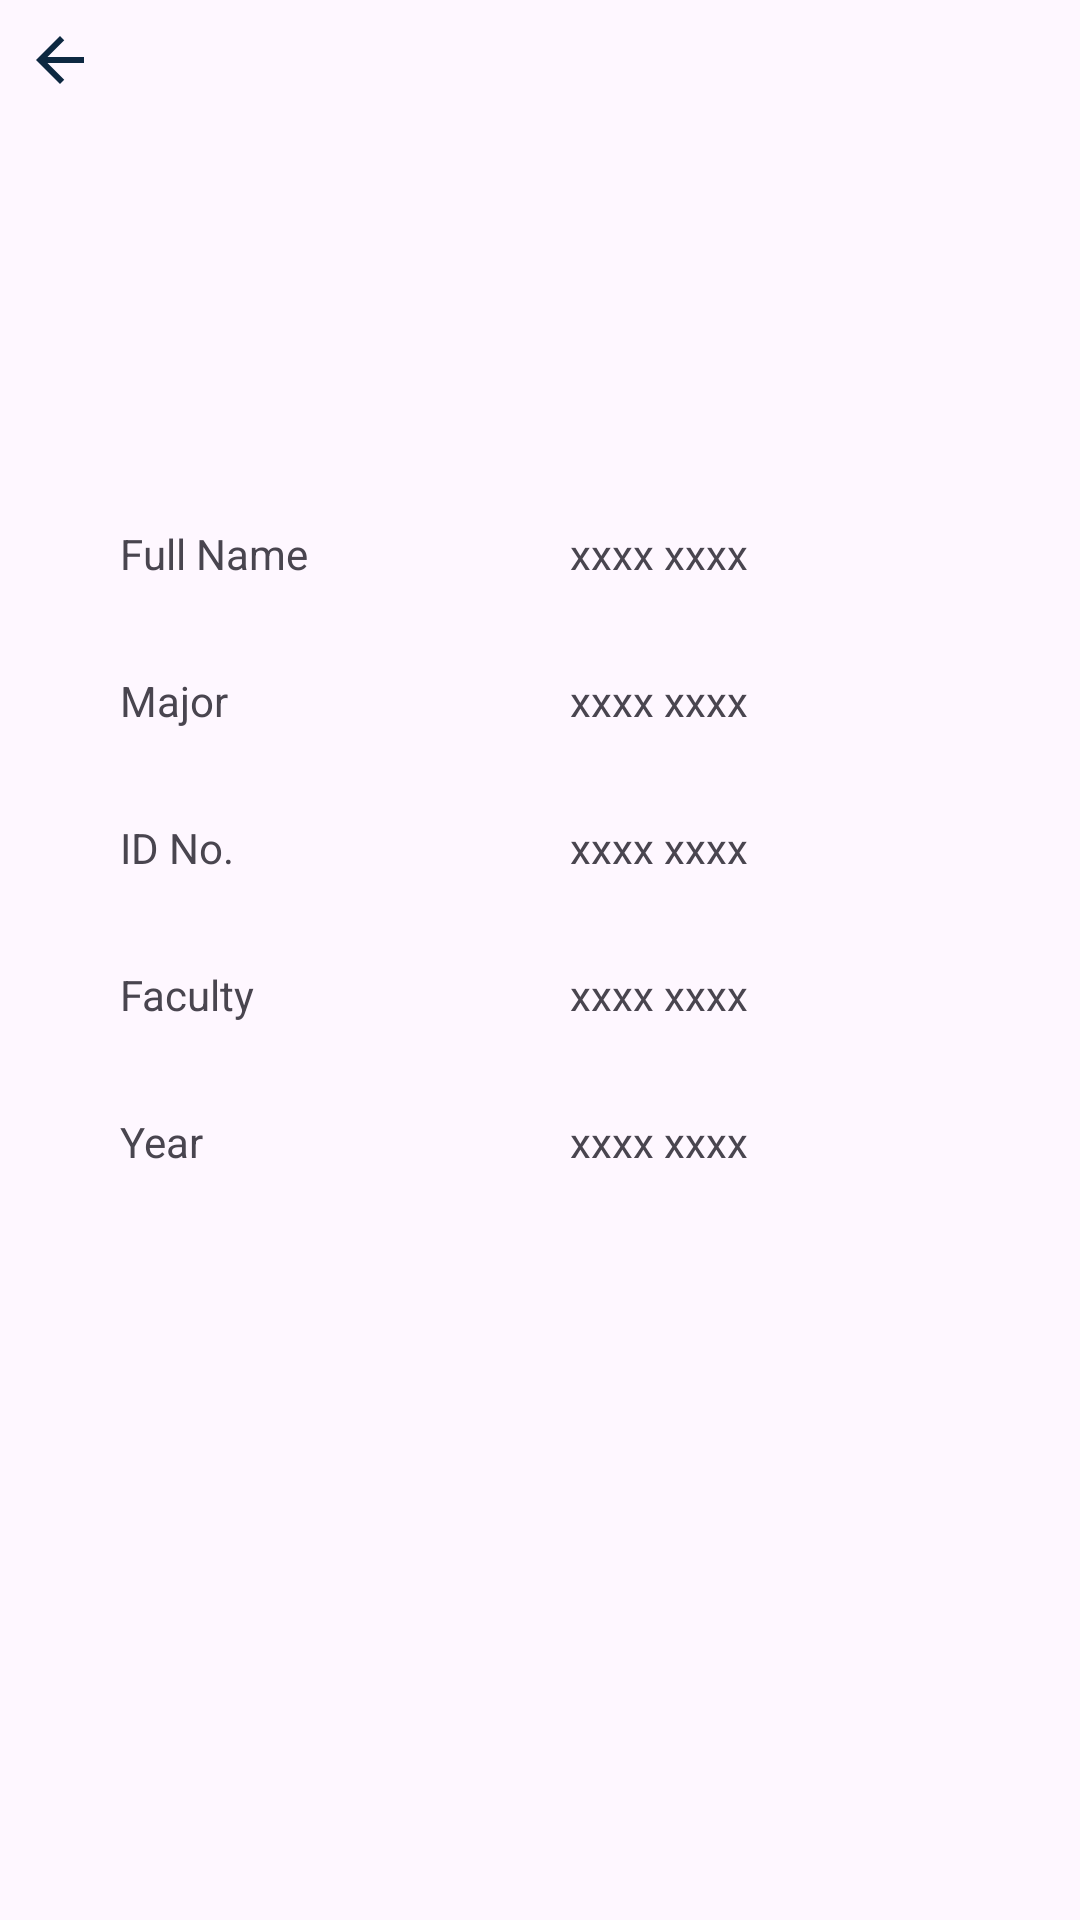

Named icons in this screenshot (1080 x 1920) and their centers, [x,y]:
Back button: [60,60]
